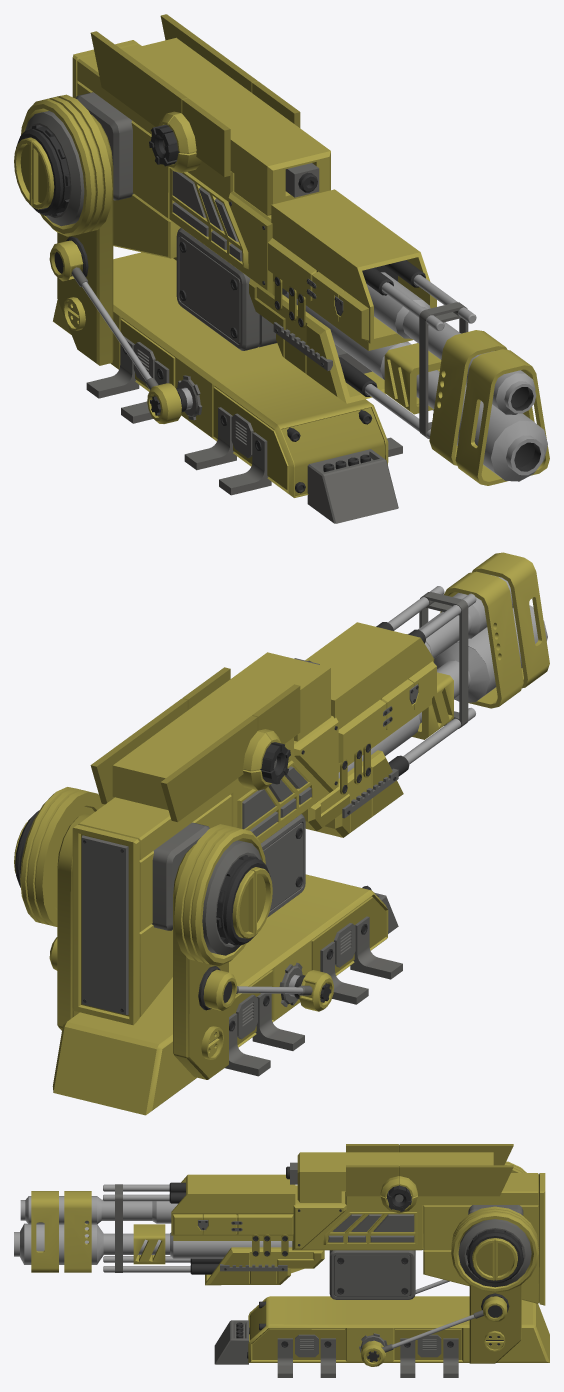
The picture shows the model from 3 angles, top to bottom: view 1: azimuth 30°, elevation 25°; view 2: azimuth 150°, elevation 25°; view 3: azimuth 270°, elevation 25°; orthographic projection. The views are drawn at different scales.
Visible parts, largest first — view 1: pCylinder36; view 2: pCylinder36; view 3: pCylinder36.
Boxes of the visible parts, bbox=[...] form: pCylinder36: bbox=[14, 14, 549, 523]; pCylinder36: bbox=[14, 552, 549, 1115]; pCylinder36: bbox=[14, 1144, 549, 1377].
Bounding box in the file's own units: 1531 × 2082 × 5076.
